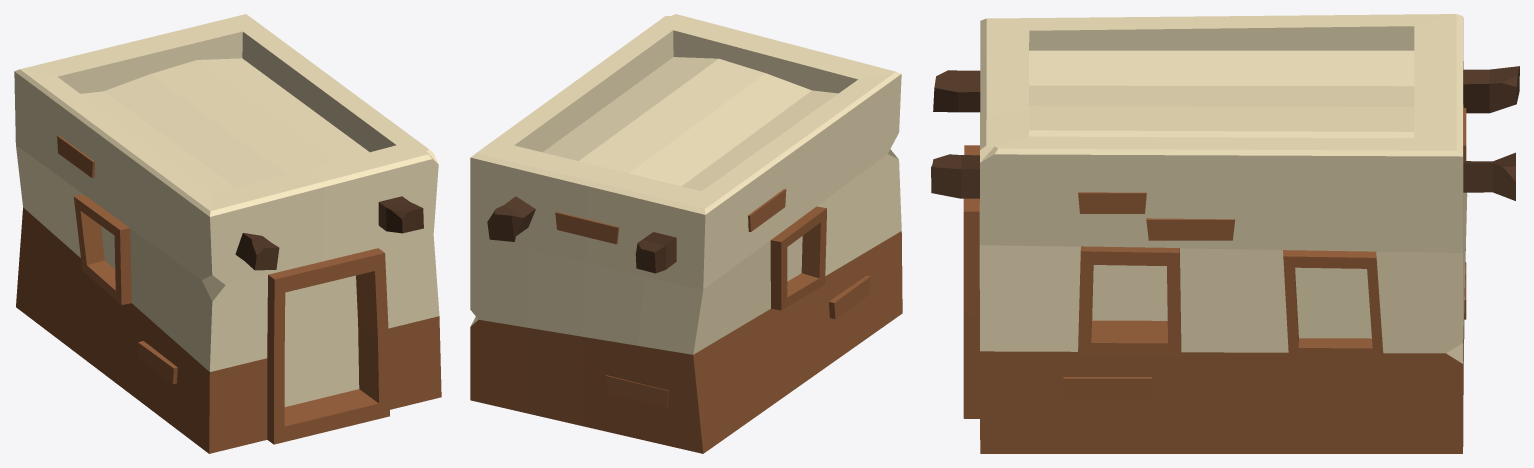
The model's file is House_6.fbx.
The picture shows the model from 3 angles, left to right: view 1: azimuth 30°, elevation 25°; view 2: azimuth 150°, elevation 25°; view 3: azimuth 270°, elevation 25°; orthographic projection. The views are drawn at different scales.
Parts seen in each view (by area): view 1: House_6; view 2: House_6; view 3: House_6.
Part boxes in pixels (x1,y1,x2,y2): House_6: [14, 14, 441, 453]; House_6: [470, 14, 902, 453]; House_6: [931, 14, 1519, 453].
Size of the model in its own units: 132 by 124 by 219.
